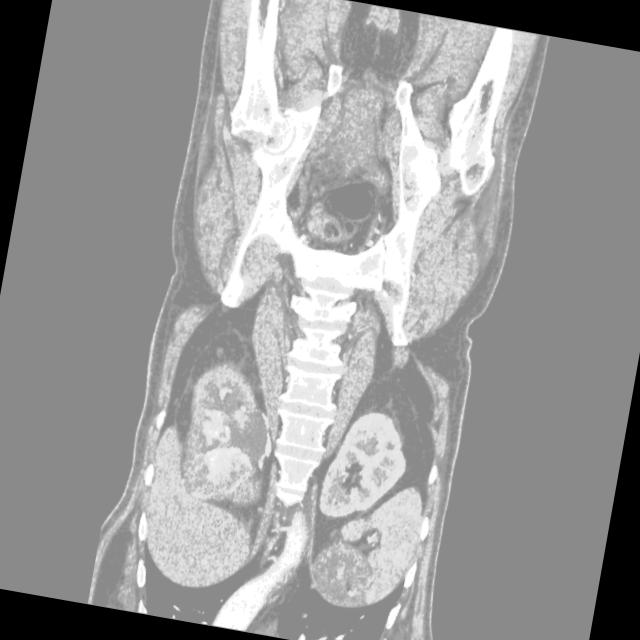TUMOR: (120, 309, 475, 561)
